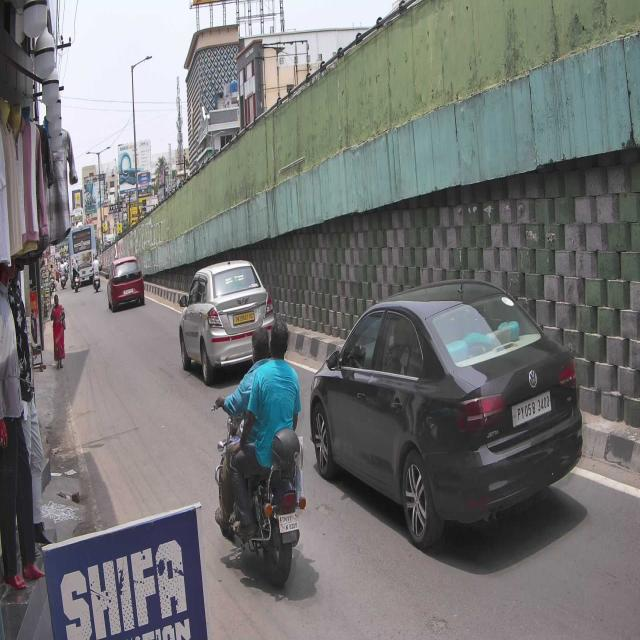double_rider: (212, 316, 307, 588)
